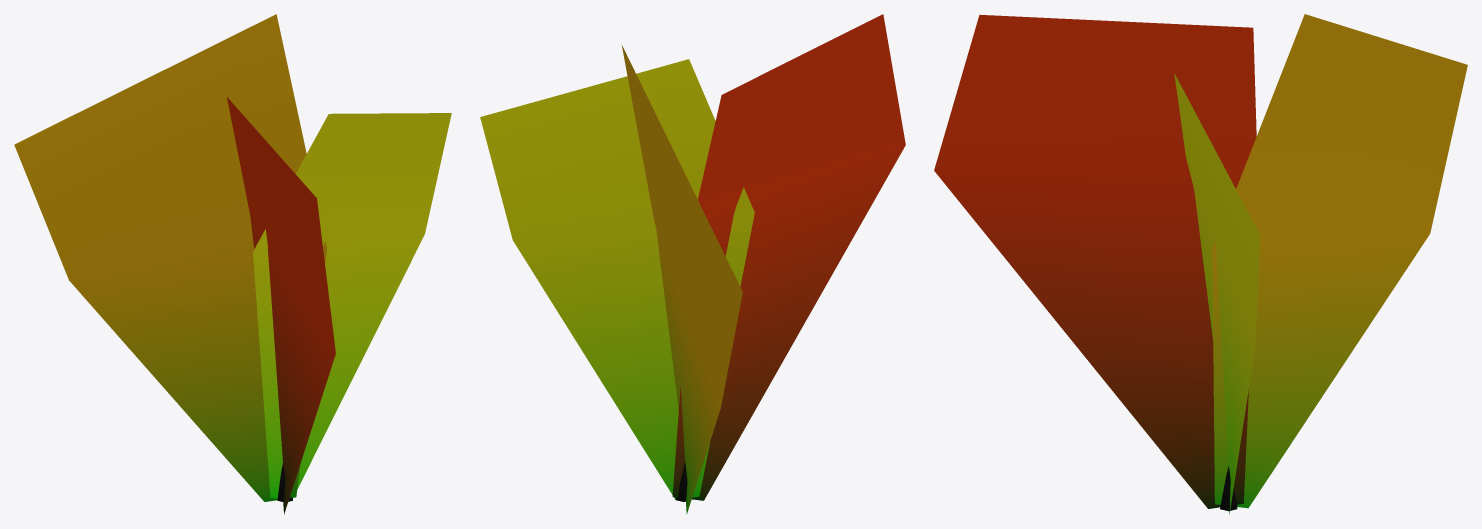
Rendered from Var5_LOD2.fbx.
The picture shows the model from 3 angles, left to right: view 1: azimuth 30°, elevation 25°; view 2: azimuth 150°, elevation 25°; view 3: azimuth 270°, elevation 25°; orthographic projection. The views are drawn at different scales.
Visible parts, largest first — view 1: _d591_Var5_LOD2; view 2: _d591_Var5_LOD2; view 3: _d591_Var5_LOD2.
Part boxes in pixels (x1,y1,x2,y2): _d591_Var5_LOD2: (14,14,451,514); _d591_Var5_LOD2: (480,14,905,514); _d591_Var5_LOD2: (934,14,1467,514).
Size of the model in its own units: 19.14 by 24.43 by 22.97.
